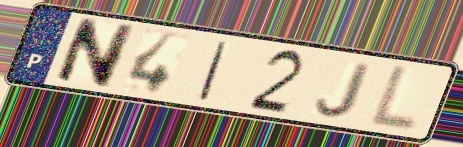2: (246, 48, 307, 116)
4: (124, 30, 178, 96)
I: (195, 39, 232, 104)
J: (313, 60, 377, 120)
L: (364, 62, 421, 136)
N: (50, 15, 139, 91)
